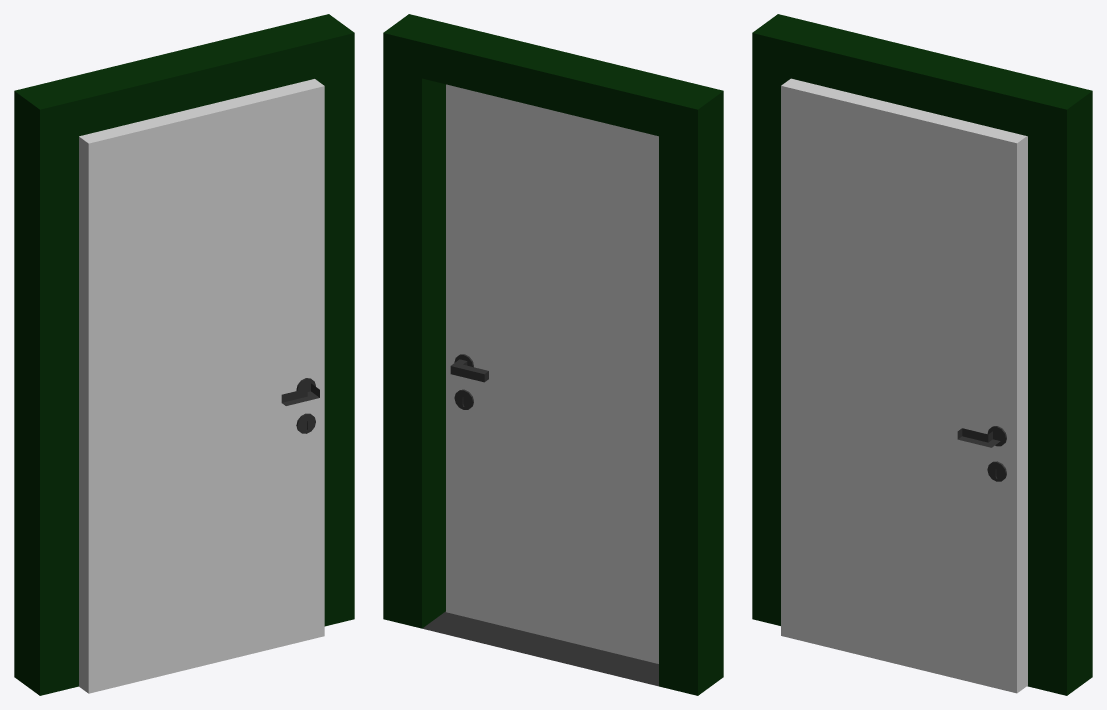
The model's file is portasingola.fbx.
The picture shows the model from 3 angles, left to right: view 1: azimuth 30°, elevation 25°; view 2: azimuth 150°, elevation 25°; view 3: azimuth 330°, elevation 25°; orthographic projection.
Visible parts, largest first — view 1: PortaPrincipale, StrutturaPorta; view 2: PortaPrincipale, StrutturaPorta, Maniglia; view 3: PortaPrincipale, StrutturaPorta.
Boxes of the visible parts, x1,y1,x2,y2 form: PortaPrincipale: [79, 79, 324, 693]; StrutturaPorta: [14, 14, 354, 695]; PortaPrincipale: [446, 84, 658, 663]; StrutturaPorta: [383, 14, 723, 695]; Maniglia: [450, 359, 488, 382]; PortaPrincipale: [781, 78, 1027, 693]; StrutturaPorta: [752, 14, 1092, 695].
Size of the model in its own units: 337 by 600 by 85.5.
